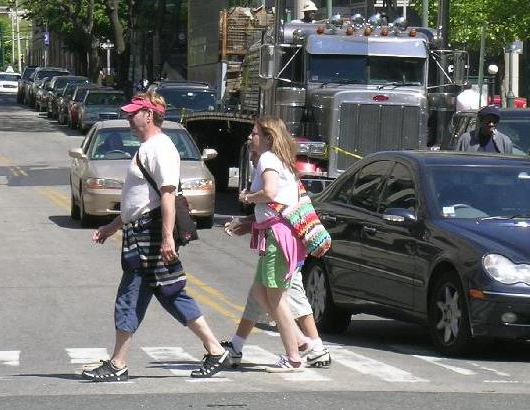pedestrian: (83, 93, 228, 382), (239, 119, 331, 373)
